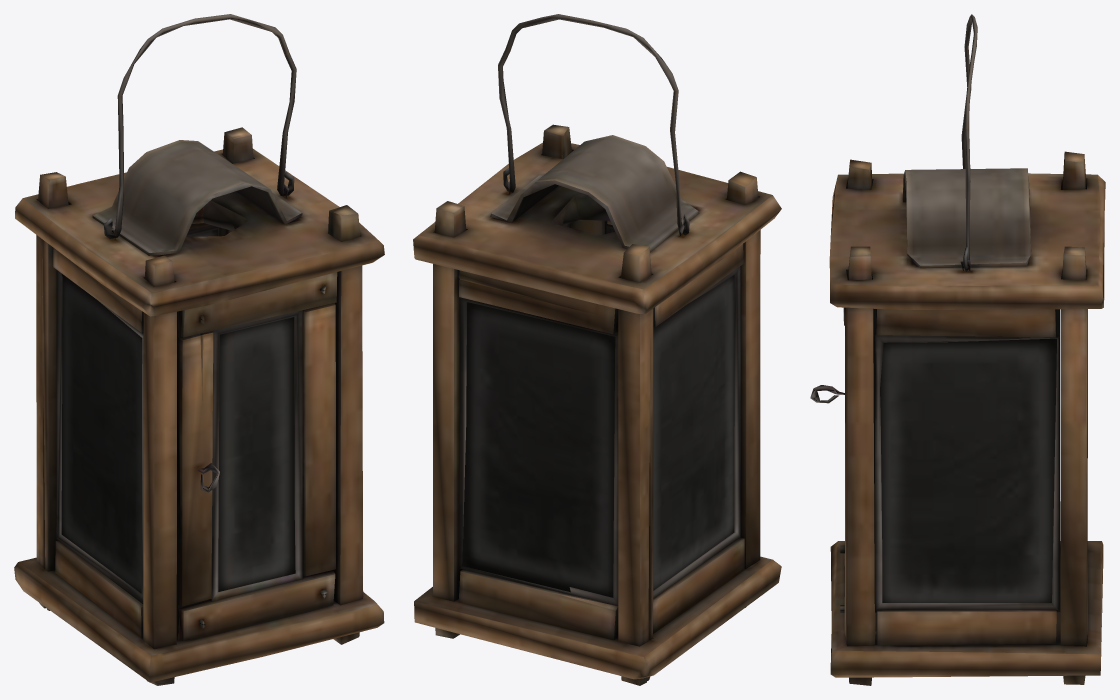
Rendered from wooden_lantern_01.glb.
The picture shows the model from 3 angles, left to right: view 1: azimuth 30°, elevation 25°; view 2: azimuth 150°, elevation 25°; view 3: azimuth 270°, elevation 25°; orthographic projection.
Visible parts, largest first — view 1: wooden_lantern_01, wooden_lantern_01_door, wooden_lantern_01_handle; view 2: wooden_lantern_01, wooden_lantern_01_handle; view 3: wooden_lantern_01, wooden_lantern_01_handle, wooden_lantern_01_door.
Boxes of the visible parts, <box> form: wooden_lantern_01: <box>14,127,384,685</box>; wooden_lantern_01_door: <box>176,272,337,641</box>; wooden_lantern_01_handle: <box>103,14,296,238</box>; wooden_lantern_01: <box>413,124,781,685</box>; wooden_lantern_01_handle: <box>498,14,689,235</box>; wooden_lantern_01: <box>829,151,1105,685</box>; wooden_lantern_01_handle: <box>961,14,977,271</box>; wooden_lantern_01_door: <box>810,307,845,612</box>.
Size of the model in its own units: 0.2186 by 0.5276 by 0.2331.
Materials: 2 (2 with a texture image).
